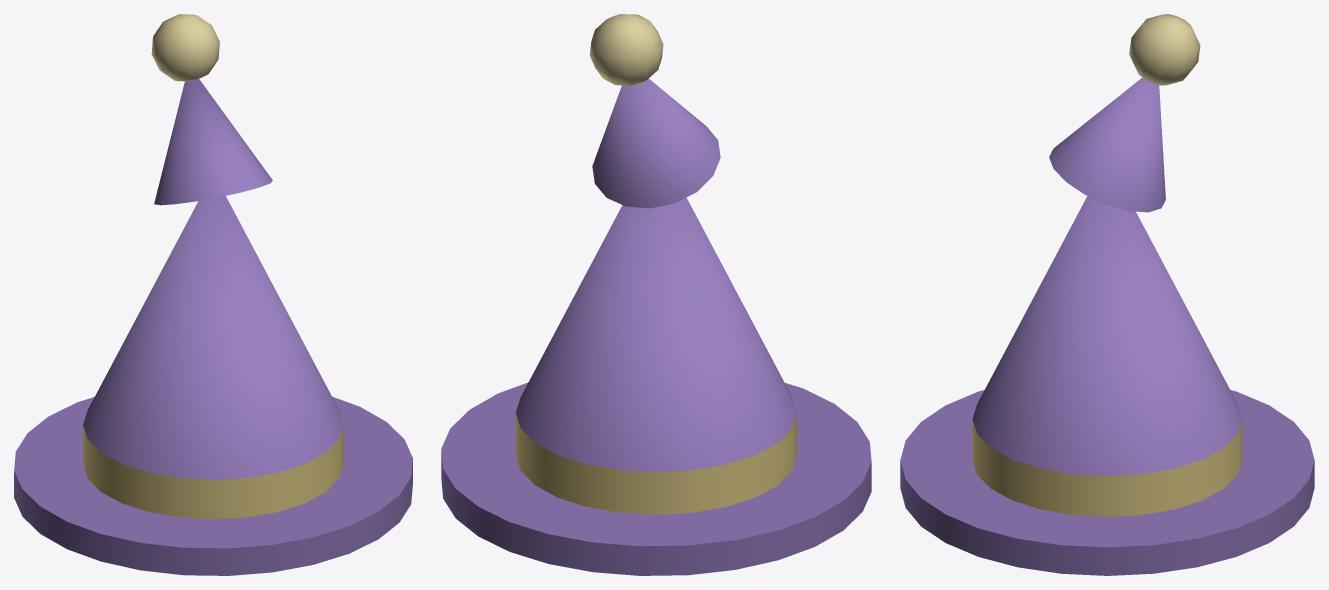
File: wizard_hat.glb
3 views of the same model, side by side, from view 1: azimuth 30°, elevation 25°; view 2: azimuth 150°, elevation 25°; view 3: azimuth 270°, elevation 25° (orthographic). The views are drawn at different scales.
Parts seen in each view (by area): view 1: hat, tip; view 2: hat, tip; view 3: hat, tip.
Boxes of the visible parts, left/top/right/bottom form: hat: left=14, top=196, right=412, bottom=575; tip: left=151, top=14, right=272, bottom=205; hat: left=441, top=197, right=871, bottom=575; tip: left=590, top=14, right=720, bottom=208; hat: left=900, top=196, right=1314, bottom=575; tip: left=1049, top=14, right=1200, bottom=212.
Bounding box in the file's own units: 0.575 × 0.7215 × 0.575.
